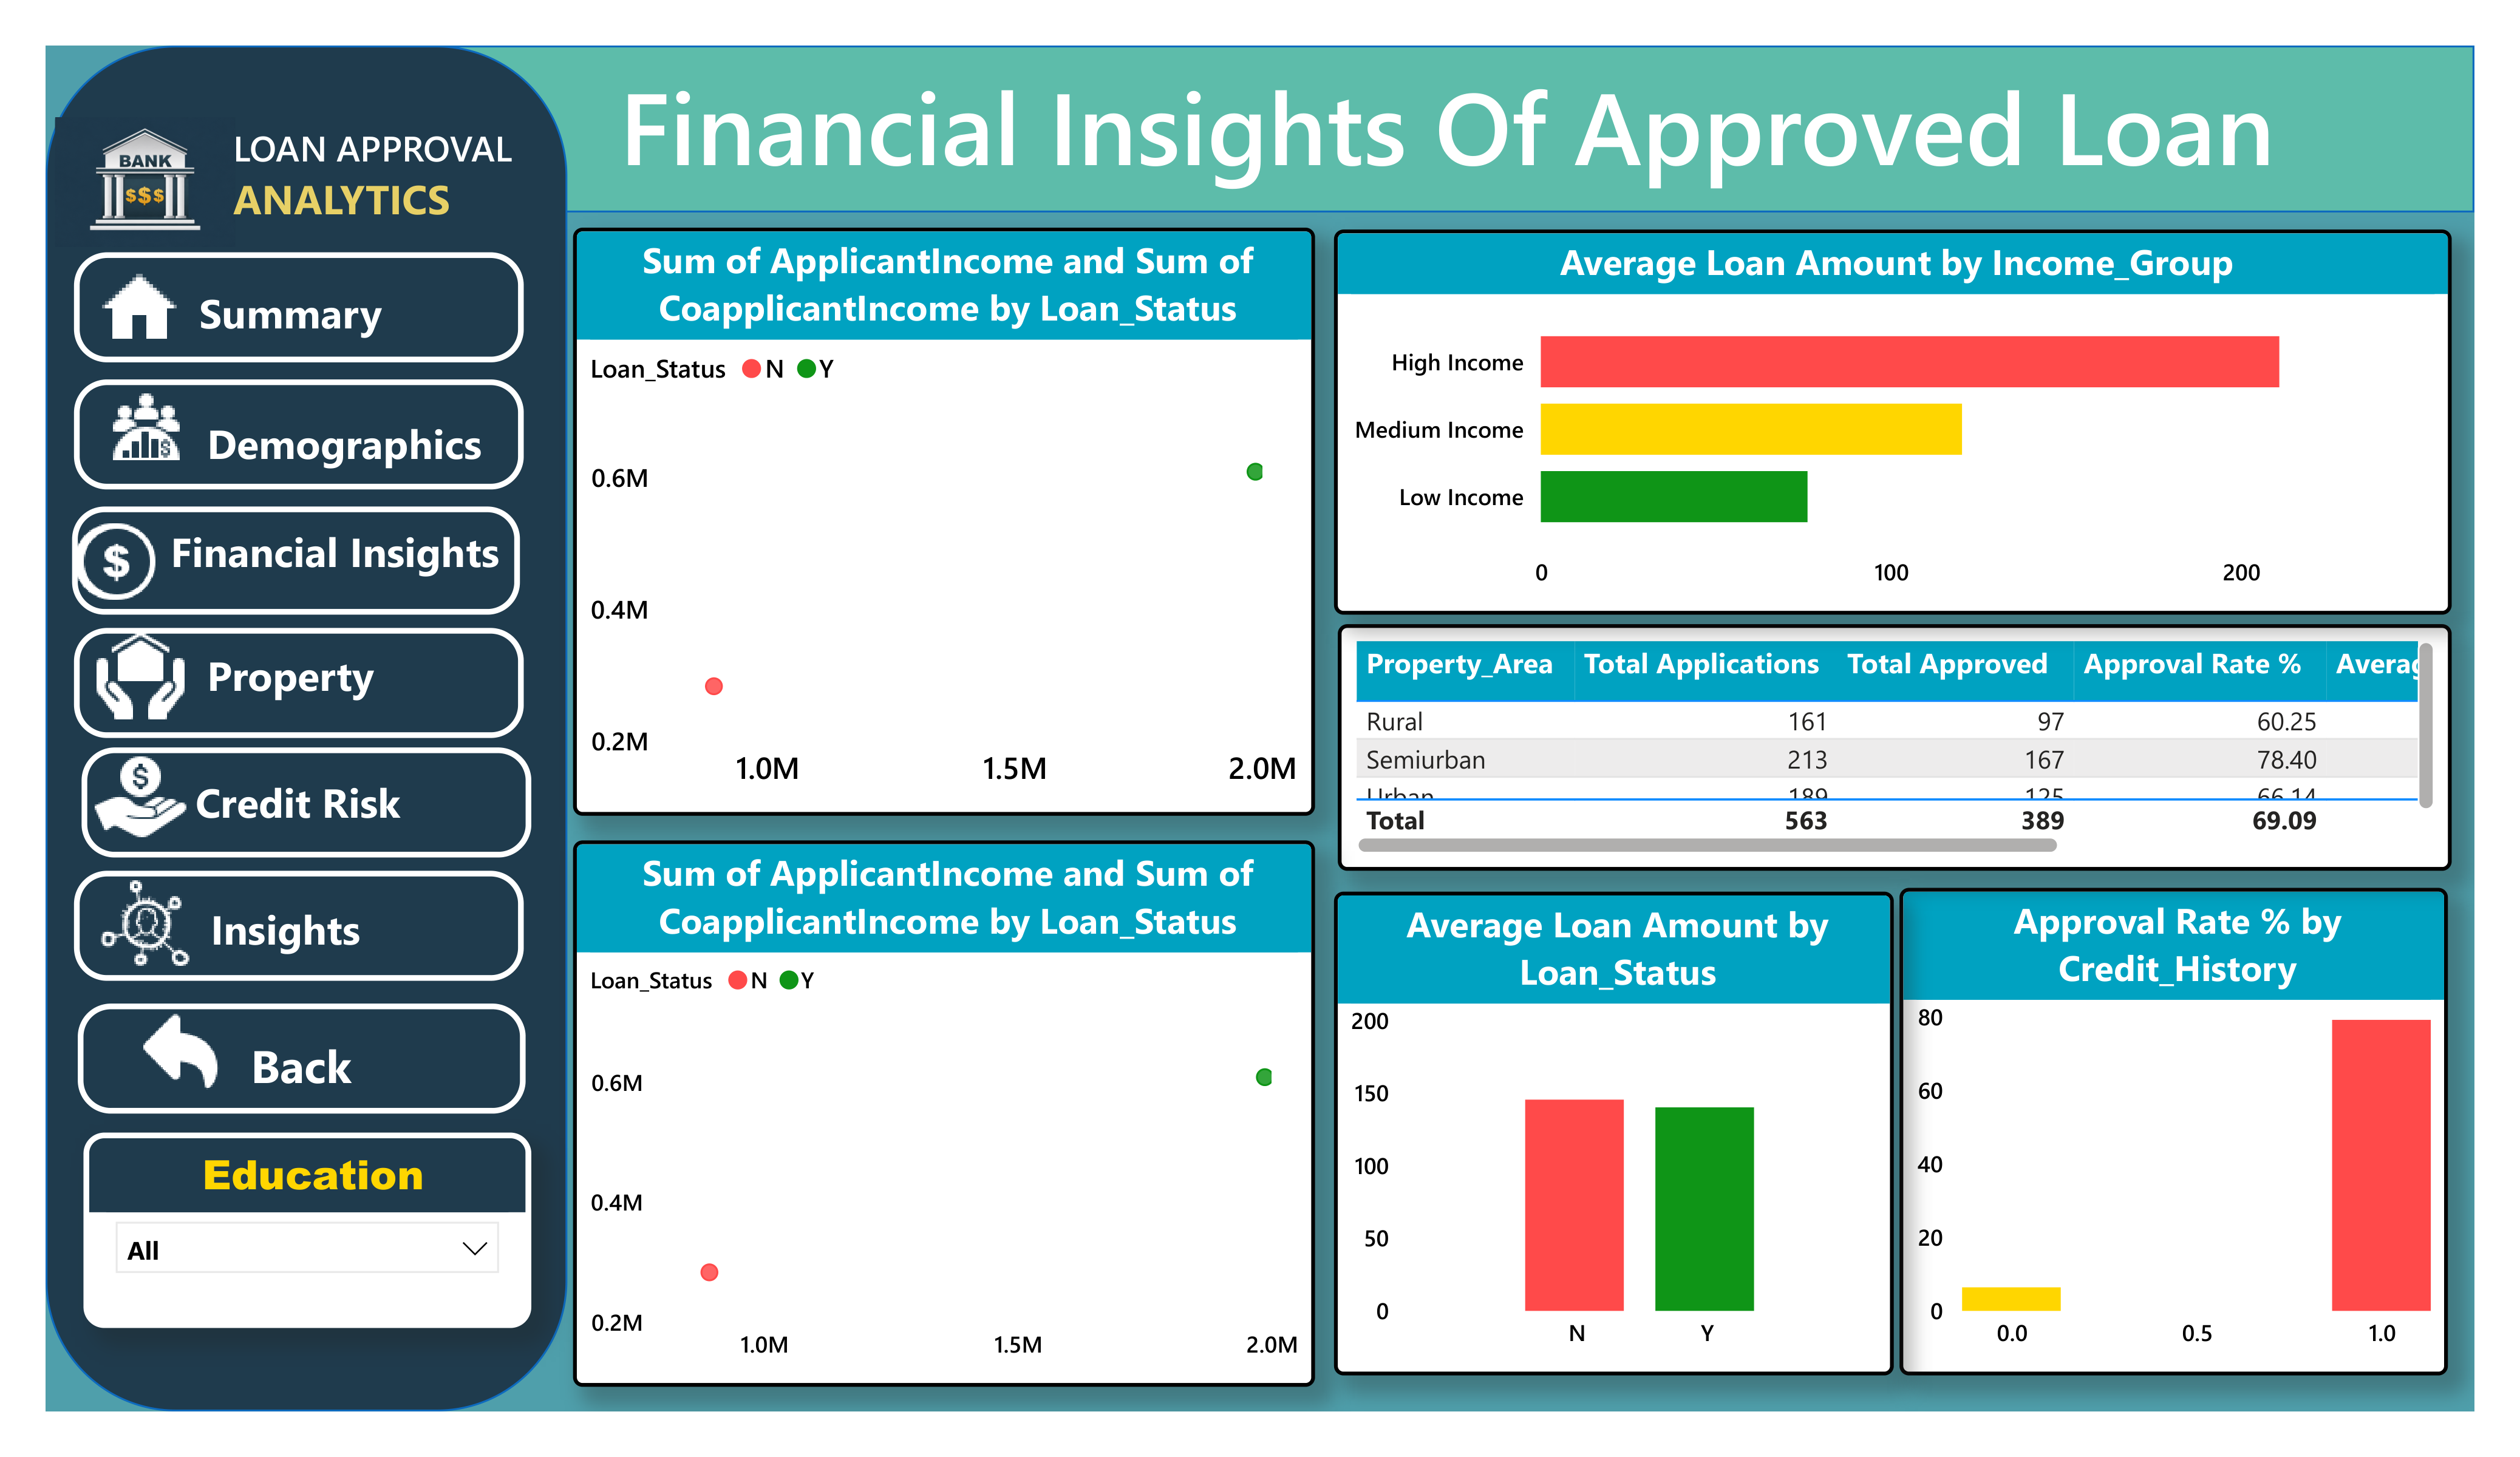

The page's visual inventory and layout, read from the dashboard file:
{"tool":"powerbi","page":{"name":"Financial Insights","canvas":[1280,720],"ordinal":2},"visuals":[{"type":"shape","box":[78.9,0,1201.1,88],"z":0},{"type":"actionButton","box":[15.2,306.9,236.6,57.6],"z":0,"group":"g1"},{"type":"textbox","box":[197.2,0,1082.8,88],"z":1000},{"type":"textbox","box":[80.4,311.4,128.9,48.5],"z":1000,"group":"g1"},{"type":"shape","box":[0,0,274.5,720.4],"z":2000},{"type":"image","box":[0,12.1,104.6,119.8],"z":3000},{"type":"textbox","box":[94,36.4,172.9,63.7],"z":4000},{"type":"actionButton","box":[15.2,109.2,236.6,57.6],"z":5000},{"type":"image","box":[22.7,109.2,53.1,57.6],"z":6000},{"type":"textbox","box":[75.8,121.3,130.4,45.5],"z":7000},{"type":"actionButton","box":[15.2,175.9,236.6,57.6],"z":8000},{"type":"image","box":[22.7,175.9,60.7,50],"z":9000},{"type":"textbox","box":[80.4,189.6,159.2,44],"z":10000},{"type":"actionButton","box":[13.6,242.7,236.6,57.6],"z":11000},{"type":"image","box":[9.1,242.7,56.1,57.6],"z":12000},{"type":"textbox","box":[60.7,247.2,189.6,48.5],"z":13000},{"type":"slicer","title":"Education","fields":{"Values":["l_approved.Education"]},"box":[19.7,573.3,236.6,103.1],"z":14000},{"type":"actionButton","box":[15.2,435.3,236.6,57.6],"z":15000},{"type":"textbox","box":[81.9,445.9,116.8,40.9],"z":16000},{"type":"image","box":[19.7,432.2,65.2,62.2],"z":17000},{"type":"actionButton","box":[16.7,505,236.6,57.6],"z":18000},{"type":"image","box":[39.4,499,63.7,63.7],"z":19000},{"type":"textbox","box":[103.1,515.6,104.6,47],"z":20000},{"type":"scatterChart","fields":{"X":["Sum(l_approved.ApplicantIncome)"],"Y":["Sum(l_approved.CoapplicantIncome)"],"Series":["l_approved.Loan_Status"]},"box":[277.5,95.5,391.3,310.9],"z":21000},{"type":"columnChart","fields":{"Category":["l_approved.Credit_History"],"Y":["l_approved.Approval Rate %"]},"box":[976.7,444.4,289.7,256.3],"z":22000},{"type":"tableEx","fields":{"Values":["l_approved.Property_Area","l_approved.Total Applications","l_approved.Total Approved","l_approved.Approval Rate %","l_approved.Average Loan Amount","l_approved.Average Total Income"]},"box":[680.9,304.8,586.9,130.4],"z":23000},{"type":"scatterChart","fields":{"Y":["Sum(l_approved.CoapplicantIncome)"],"X":["l_approved.ApplicantIncome"],"Series":["l_approved.Loan_Status"]},"box":[277.5,418.6,391.3,288.2],"z":24000},{"type":"clusteredColumnChart","fields":{"Category":["l_approved.Loan_Status"],"Y":["l_approved.Average Loan Amount"]},"box":[679.4,445.9,294.2,254.8],"z":25000},{"type":"clusteredBarChart","fields":{"Category":["l_approved.Income_Group"],"Y":["l_approved.Average Loan Amount"]},"box":[679.4,97.1,588.4,203.2],"z":26000},{"type":"group","id":"g1","title":"Group 1","box":[15.2,306.9,236.6,57.6],"z":27000},{"type":"group","id":"g2","title":"Group 2","box":[19.3,370.2,236.6,57.6],"z":28000},{"type":"image","box":[21.2,367,57.6,57.6],"z":29000},{"type":"image","box":[19.7,297.3,60.7,69.8],"z":30000},{"type":"actionButton","box":[19.3,370.2,236.6,57.6],"z":30008,"group":"g2"},{"type":"textbox","box":[73.9,379.3,169.9,40.9],"z":30014,"group":"g2"}]}

Visuals, with their boxes on the page's 1280x720 design canvas (x1, y1, x2, y2). These are canvas units, not pixel positions in the 2520x1457 screenshot, which may show the page scaled, cropped or inside an application window:
shape: 79,0,1280,88
actionButton: 15,307,252,364
textbox: 197,0,1280,88
textbox: 80,311,209,360
shape: 0,0,274,720
image: 0,12,105,132
textbox: 94,36,267,100
actionButton: 15,109,252,167
image: 23,109,76,167
textbox: 76,121,206,167
actionButton: 15,176,252,234
image: 23,176,83,226
textbox: 80,190,240,234
actionButton: 14,243,250,300
image: 9,243,65,300
textbox: 61,247,250,296
"Education" slicer: 20,573,256,676
actionButton: 15,435,252,493
textbox: 82,446,199,487
image: 20,432,85,494
actionButton: 17,505,253,563
image: 39,499,103,563
textbox: 103,516,208,563
scatterChart - Sum(l_approved.ApplicantIncome) x Sum(l_approved.CoapplicantIncome): 278,96,669,406
columnChart - l_approved.Credit_History x l_approved.Approval Rate %: 977,444,1266,701
tableEx - l_approved.Property_Area x l_approved.Total Applications: 681,305,1268,435
scatterChart - Sum(l_approved.CoapplicantIncome) x l_approved.ApplicantIncome: 278,419,669,707
clusteredColumnChart - l_approved.Loan_Status x l_approved.Average Loan Amount: 679,446,974,701
clusteredBarChart - l_approved.Income_Group x l_approved.Average Loan Amount: 679,97,1268,300
"Group 1" group: 15,307,252,364
"Group 2" group: 19,370,256,428
image: 21,367,79,425
image: 20,297,80,367
actionButton: 19,370,256,428
textbox: 74,379,244,420
